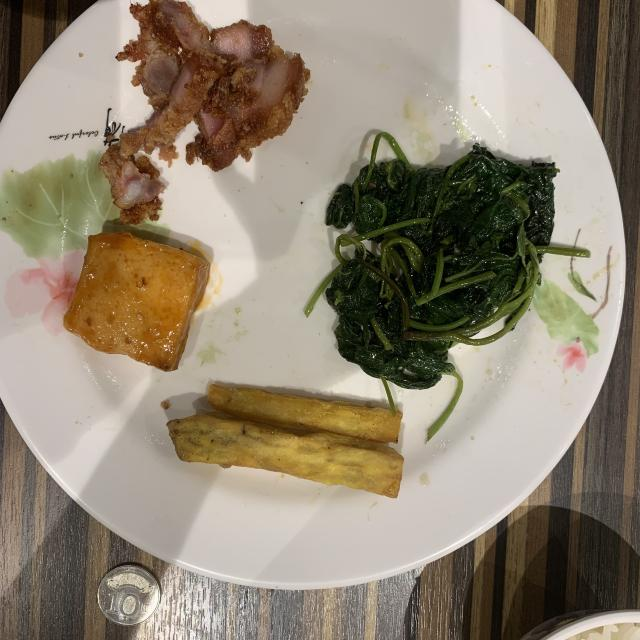coin: (98, 565, 160, 626)
creamy tofu: (64, 232, 210, 371)
red grilled pork: (99, 0, 310, 224)
sweet potato leaves: (326, 146, 556, 389)
